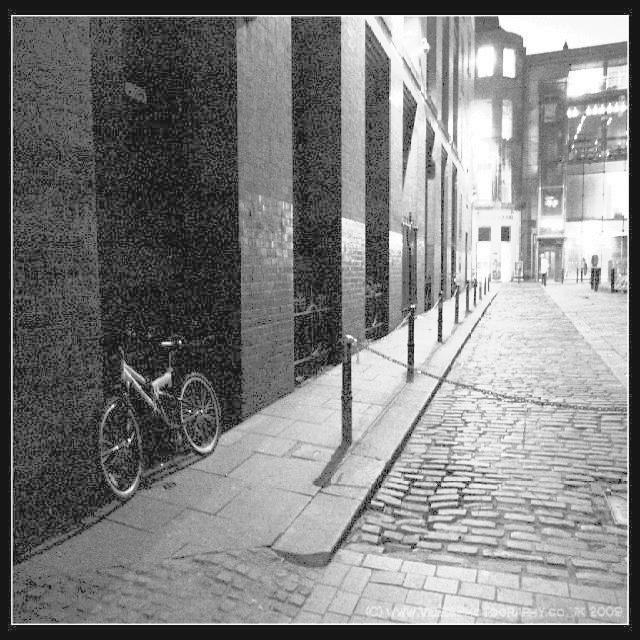Bicycle: (97, 317, 230, 506)
